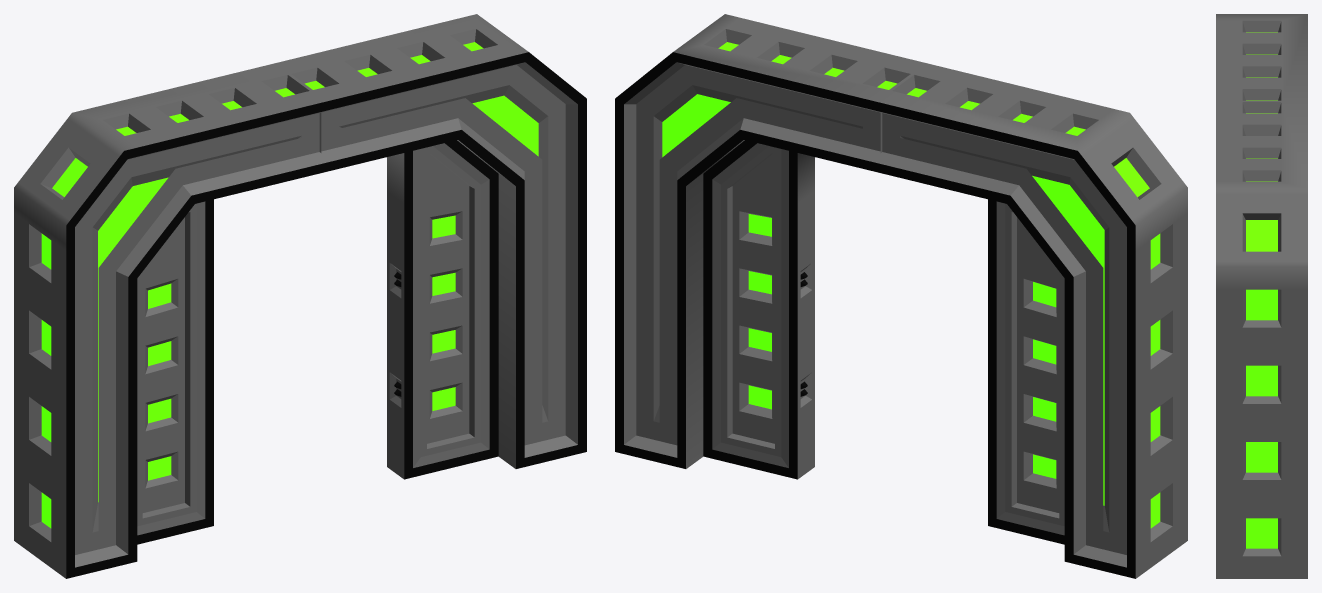
Rendered from Door2.fbx.
The picture shows the model from 3 angles, left to right: view 1: azimuth 30°, elevation 25°; view 2: azimuth 150°, elevation 25°; view 3: azimuth 270°, elevation 25°; orthographic projection. The views are drawn at different scales.
Parts seen in each view (by area): view 1: Box001; view 2: Box001; view 3: Box001.
Boxes of the visible parts, x1=… form: Box001: x1=14, y1=14, x2=586, y2=578; Box001: x1=615, y1=14, x2=1187, y2=578; Box001: x1=1216, y1=14, x2=1307, y2=578.
Bounding box in the file's own units: 63.01 × 47.87 × 10.91.
